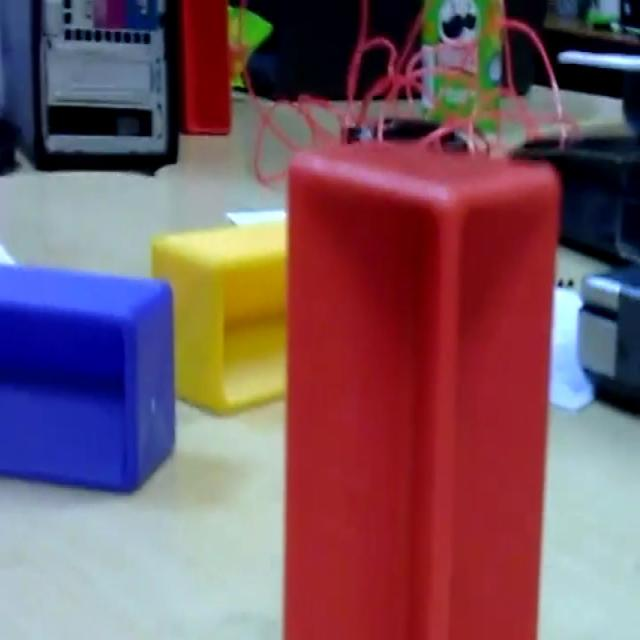blue_block: (0, 258, 176, 493)
red_block: (281, 136, 562, 636)
yellow_block: (150, 210, 288, 414)
